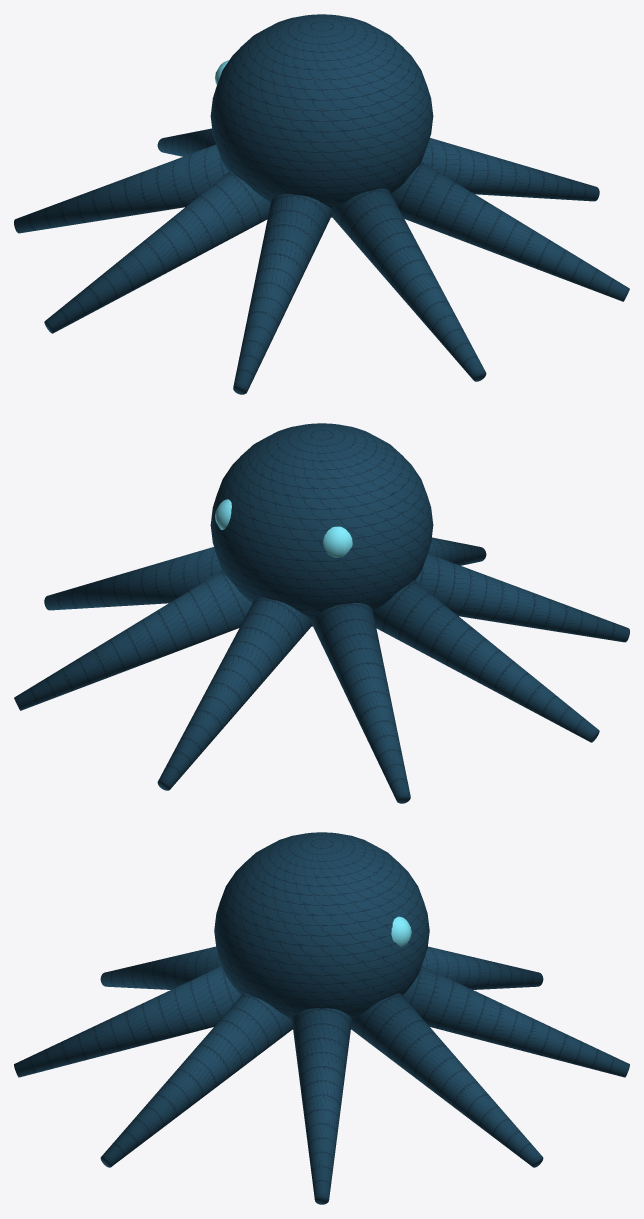
Rendered from giant-octopus.glb.
3 views of the same model, one above another, from view 1: azimuth 30°, elevation 25°; view 2: azimuth 150°, elevation 25°; view 3: azimuth 270°, elevation 25° (orthographic). The views are drawn at different scales.
Parts seen in each view (by area): view 1: Body, Tentacle.004, Tentacle.007, Tentacle.006, Tentacle.005, Tentacle.003, Tentacle, Tentacle.002; view 2: Body, Tentacle.004, Tentacle.001, Tentacle.002, Tentacle.003, Tentacle.005, Tentacle, Tentacle.006, Eye; view 3: Body, Tentacle.001, Tentacle.007, Tentacle.002, Tentacle.006, Tentacle, Tentacle.003, Tentacle.005.
Boxes of the visible parts, <box> form: Body: <box>210,14,433,217</box>; Tentacle.004: <box>44,171,270,333</box>; Tentacle.007: <box>391,162,629,301</box>; Tentacle.006: <box>331,188,486,381</box>; Tentacle.005: <box>233,194,332,394</box>; Tentacle.003: <box>14,144,228,233</box>; Tentacle: <box>421,138,599,201</box>; Tentacle.002: <box>157,128,215,156</box>; Body: <box>210,423,433,626</box>; Tentacle.004: <box>373,580,599,742</box>; Tentacle.001: <box>14,571,252,710</box>; Tentacle.002: <box>157,597,312,790</box>; Tentacle.003: <box>311,603,410,803</box>; Tentacle.005: <box>415,553,629,642</box>; Tentacle: <box>44,547,222,610</box>; Tentacle.006: <box>428,537,486,565</box>; Eye: <box>323,526,352,557</box>; Body: <box>214,832,429,1020</box>; Tentacle.001: <box>351,993,543,1167</box>; Tentacle.007: <box>100,993,292,1167</box>; Tentacle.002: <box>402,966,629,1077</box>; Tentacle.006: <box>14,966,241,1077</box>; Tentacle: <box>292,1008,351,1204</box>; Tentacle.003: <box>422,946,543,989</box>; Tentacle.005: <box>100,946,221,989</box>.
Bounding box in the file's own units: 1.46 × 0.61 × 1.46.
2 materials, 1 textured.
